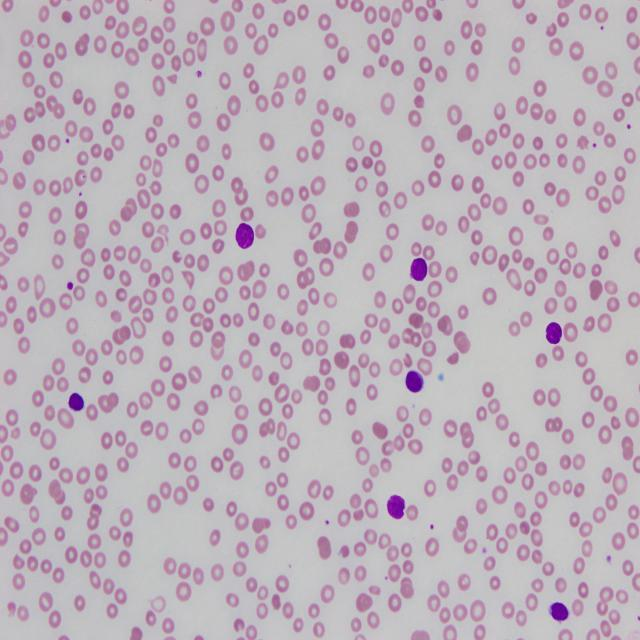cell: (235, 223, 254, 248), (405, 370, 424, 393), (410, 258, 428, 282), (388, 495, 405, 519), (550, 602, 569, 622), (546, 322, 562, 345), (69, 393, 84, 412)
